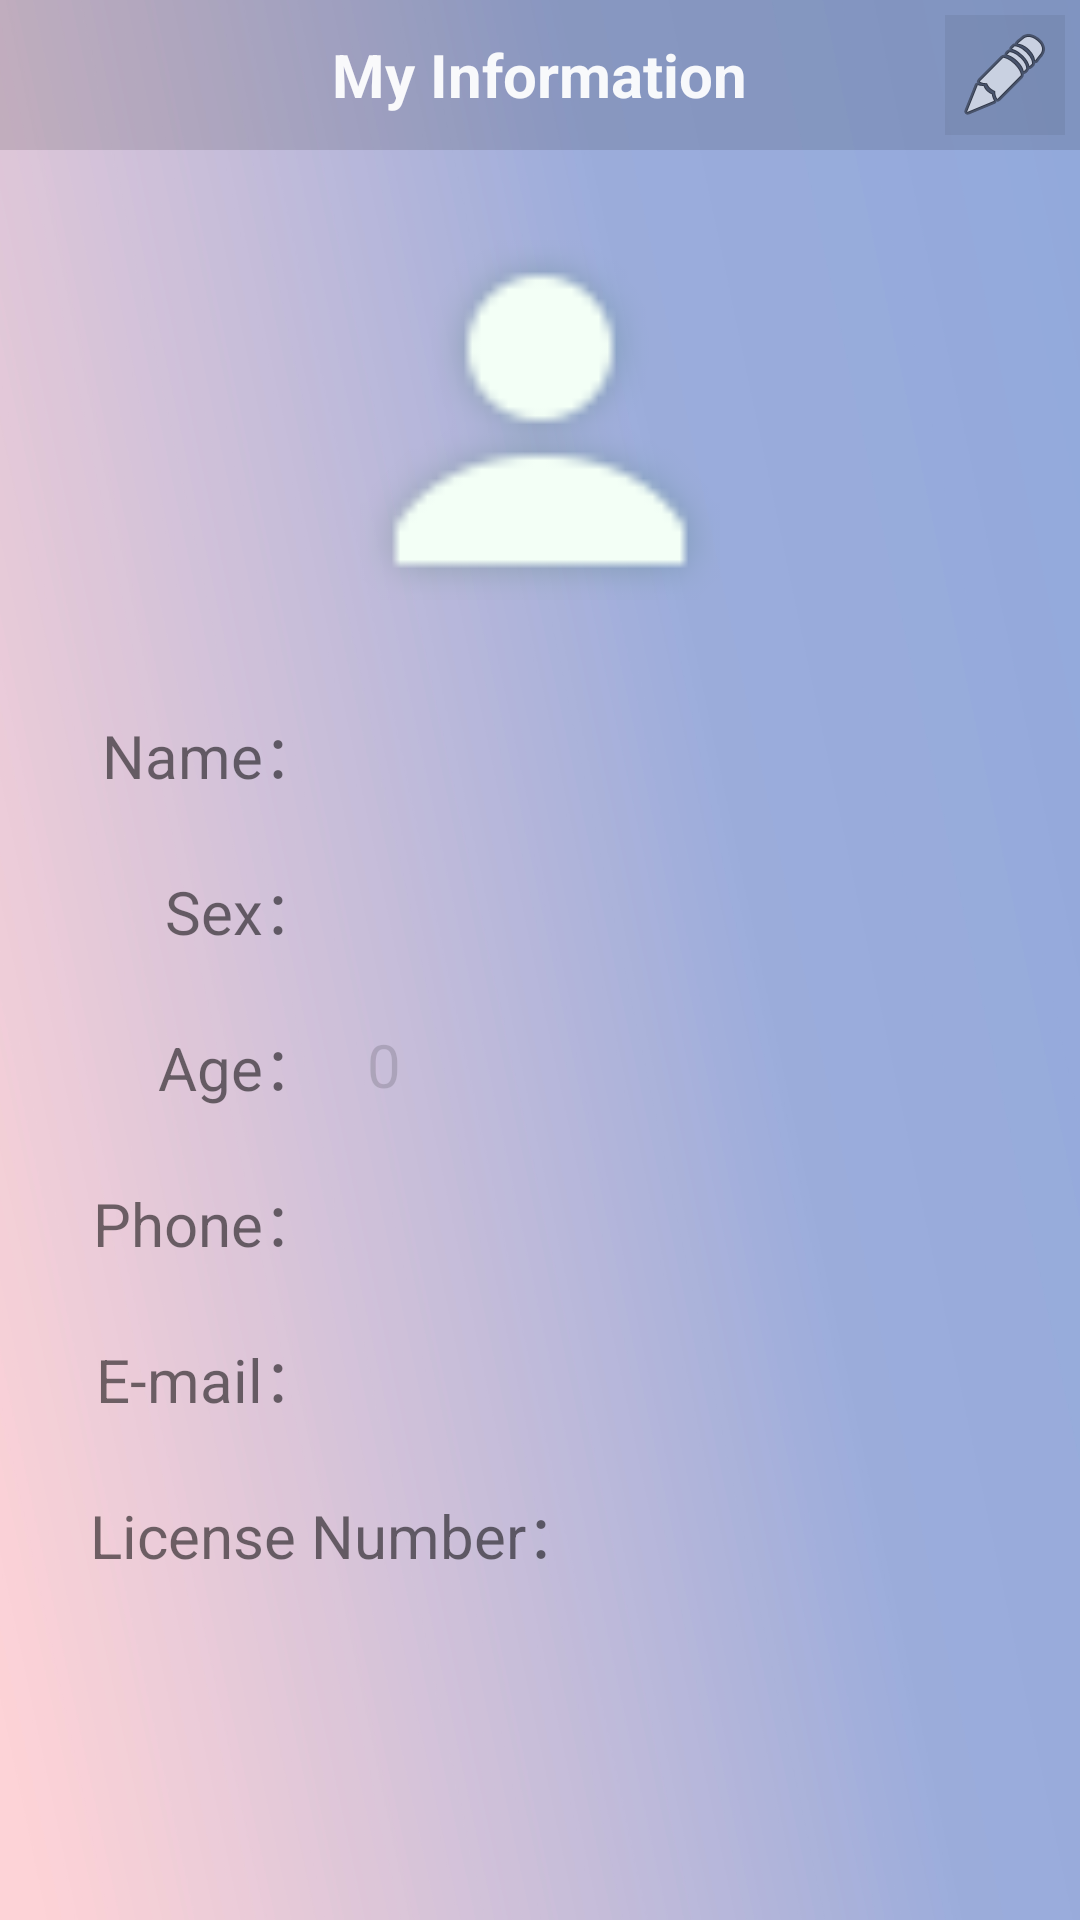

Icon bounding boxes for this 1080x1920 phone screenshot, format detection(x1, y1, x2, y2):
edit: detection(945, 15, 1065, 135)
